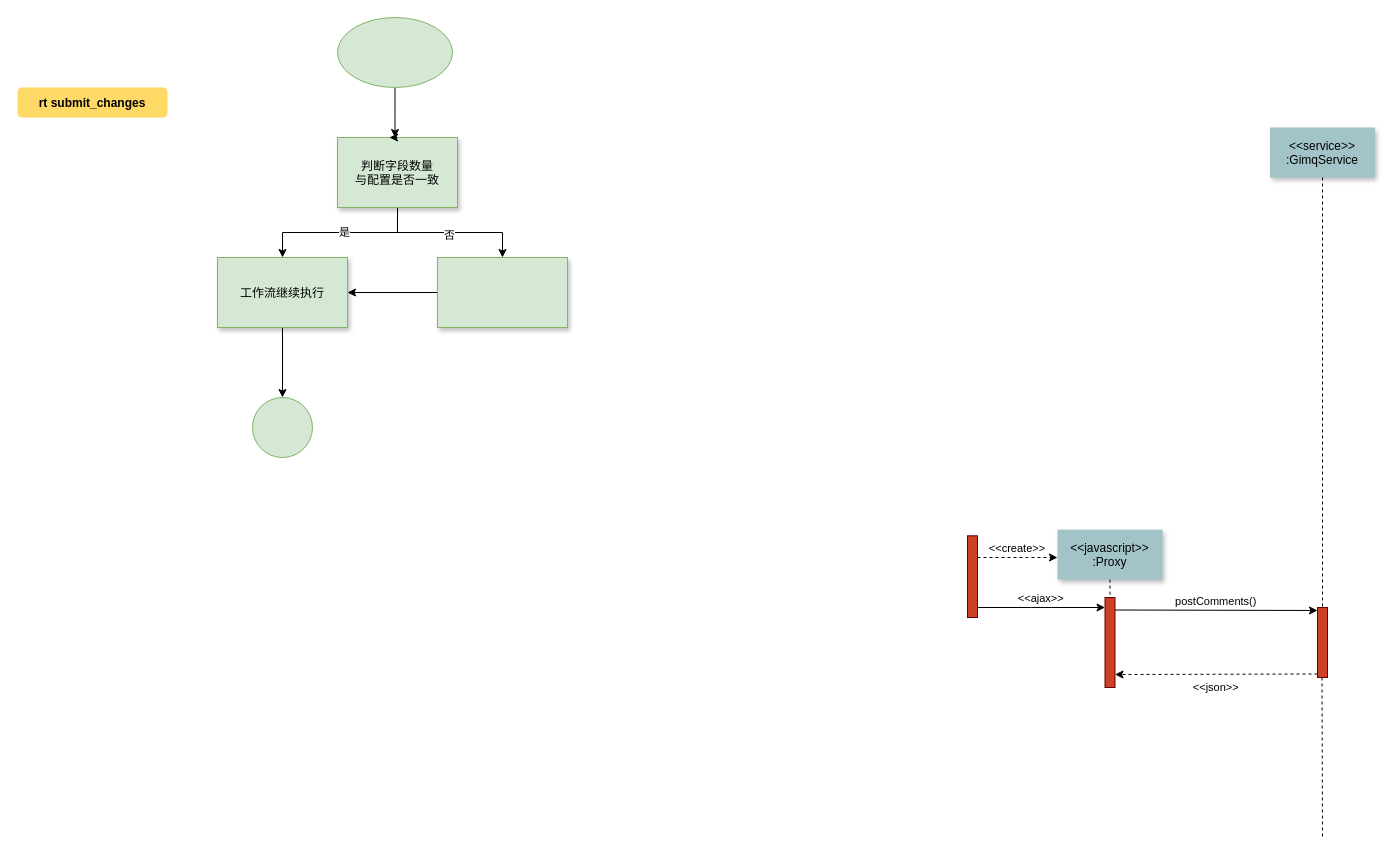
Some shapes in this 1398 by 856 pixel diagram are drawn without their labels. Here are the shapes that lost their labels. From the top down, the centre of each, then its label:
pixel 394 52: 工作流开始执行
pixel 503 293: 删除表重新创建
pixel 282 427: 结束
